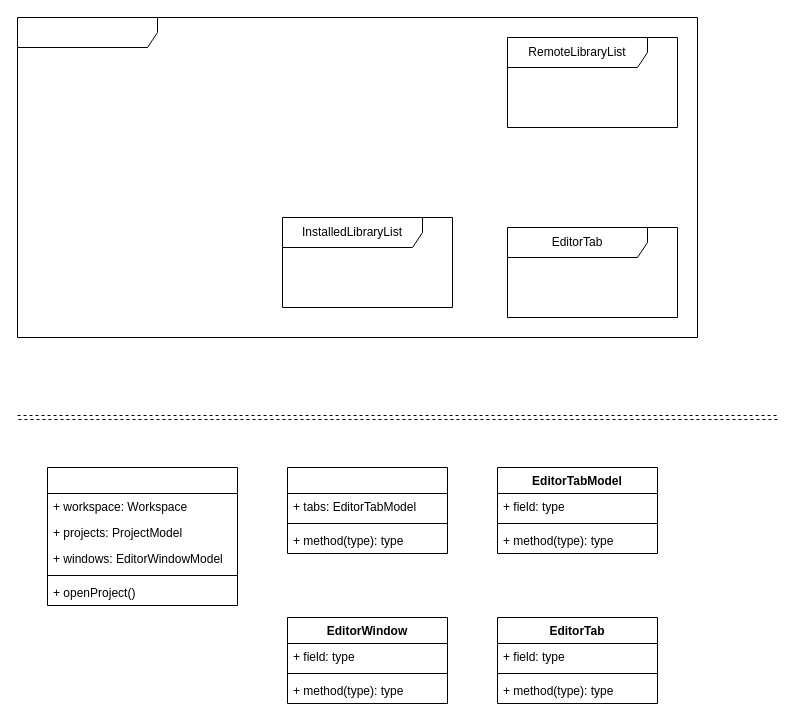
Some shapes in this 795 by 724 pixel diagram are drawn without their labels. Here are the shapes that lost their labels. From the top down, the box of each, then its label:
(16, 16, 698, 338): ApplicationWindow
(286, 466, 448, 554): EditorWindowModel
(46, 466, 238, 606): EditorApplication
